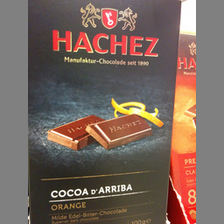chocolate: (28, 1, 179, 224)
